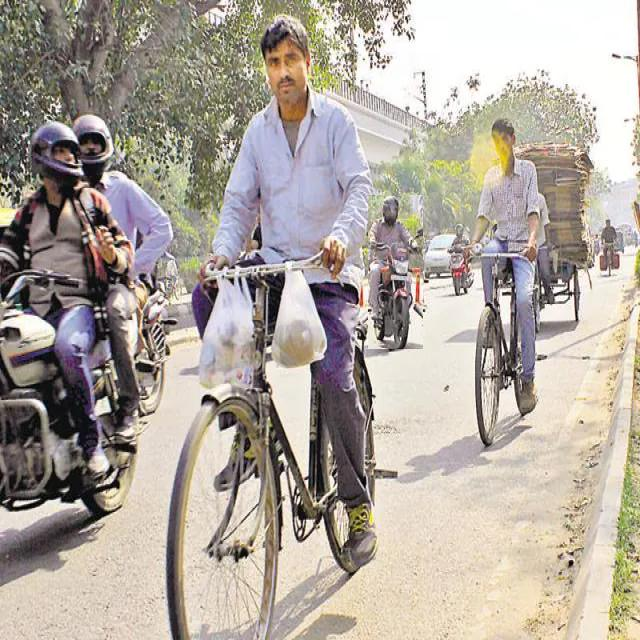bicycle: (166, 15, 376, 638), (468, 118, 539, 445)
motorcycle: (0, 115, 172, 514), (369, 195, 423, 349)
